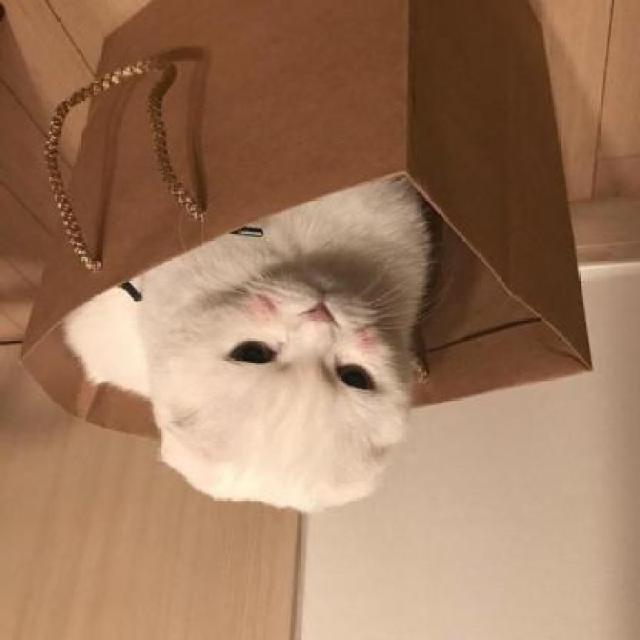cat: (94, 195, 448, 534)
